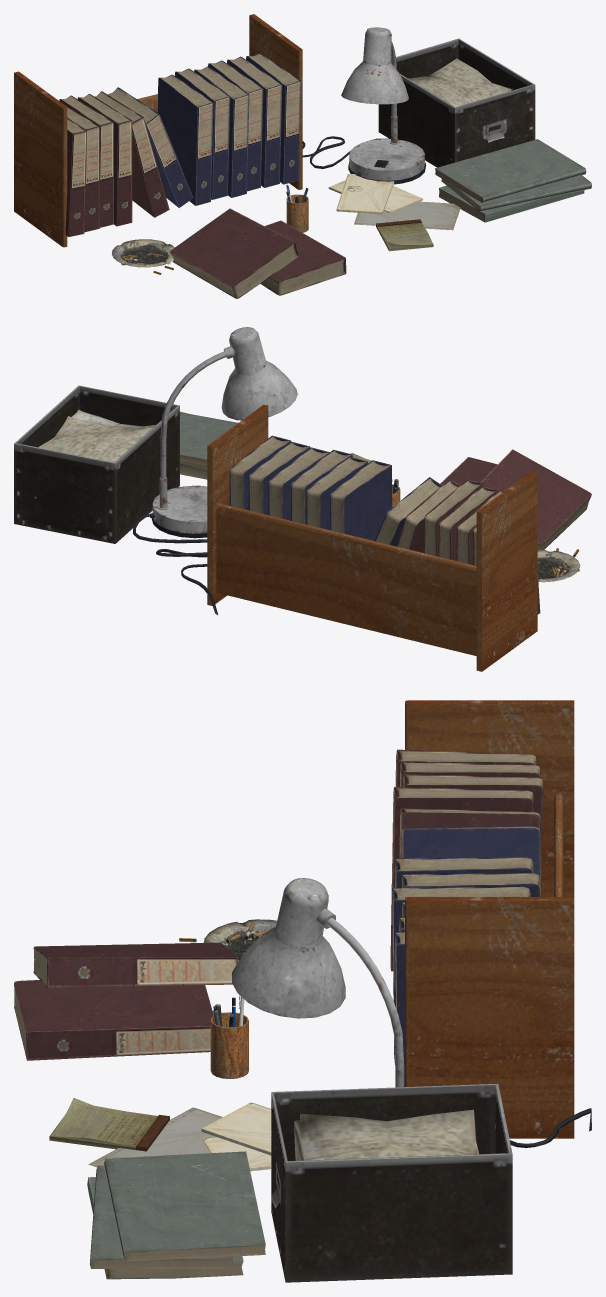
The model's file is sm39_127_officedeskset02a.fbx.
3 renders of one model, top to bottom at view 1: azimuth 30°, elevation 25°; view 2: azimuth 150°, elevation 25°; view 3: azimuth 270°, elevation 25°, orthographic. The views are drawn at different scales.
Visible parts, largest first — view 1: LOD_1_Group_2_Sub_1__sm36_007_PaperWork01A_A_Mat, LOD_1_Group_1_Sub_1__sm36_007_PaperWork01A_A_Mat, LOD_1_Group_0_Sub_3__sm36_022_Cardboard01A_B_Mat, LOD_1_Group_3_Sub_2__sm30_147_OfficeDesk01A_A_Mat, LOD_1_Group_0_Sub_1__sm35_012_DeskLight01A_A_Mat, LOD_1_Group_9_Sub_1__sm36_007_PaperWork01A_A_Mat, LOD_1_Group_3_Sub_1__sm36_007_PaperWork01A_A_Mat, LOD_1_Group_0_Sub_4__sm36_009_PaperBundle01A_A_Mat, LOD_1_Group_0_Sub_6__sm36_008_Envelope01A_A, LOD_1_Group_0_Sub_5__sm36_011_Document01A_A_Mat, LOD_1_Group_0_Sub_8__sm36_037_Ashtray01A_B_Mat, LOD_1_Group_0_Sub_9__sm36_013_Notepad01A_A_Mat (+1 smaller); view 2: LOD_1_Group_3_Sub_2__sm30_147_OfficeDesk01A_A_Mat, LOD_1_Group_0_Sub_3__sm36_022_Cardboard01A_B_Mat, LOD_1_Group_2_Sub_1__sm36_007_PaperWork01A_A_Mat, LOD_1_Group_0_Sub_1__sm35_012_DeskLight01A_A_Mat, LOD_1_Group_1_Sub_1__sm36_007_PaperWork01A_A_Mat, LOD_1_Group_0_Sub_4__sm36_009_PaperBundle01A_A_Mat, LOD_1_Group_3_Sub_1__sm36_007_PaperWork01A_A_Mat, LOD_1_Group_0_Sub_8__sm36_037_Ashtray01A_B_Mat, LOD_1_Group_9_Sub_1__sm36_007_PaperWork01A_A_Mat; view 3: LOD_1_Group_3_Sub_2__sm30_147_OfficeDesk01A_A_Mat, LOD_1_Group_0_Sub_3__sm36_022_Cardboard01A_B_Mat, LOD_1_Group_1_Sub_1__sm36_007_PaperWork01A_A_Mat, LOD_1_Group_2_Sub_1__sm36_007_PaperWork01A_A_Mat, LOD_1_Group_9_Sub_1__sm36_007_PaperWork01A_A_Mat, LOD_1_Group_0_Sub_1__sm35_012_DeskLight01A_A_Mat, LOD_1_Group_0_Sub_4__sm36_009_PaperBundle01A_A_Mat, LOD_1_Group_0_Sub_9__sm36_013_Notepad01A_A_Mat, LOD_1_Group_0_Sub_6__sm36_008_Envelope01A_A, LOD_1_Group_0_Sub_7__sm36_031_Penholder01A_E_Mat, LOD_1_Group_0_Sub_5__sm36_011_Document01A_A_Mat, LOD_1_Group_0_Sub_8__sm36_037_Ashtray01A_B_Mat (+1 smaller).
Part boxes in pixels (box(x1,y1,x2,y2)): LOD_1_Group_2_Sub_1__sm36_007_PaperWork01A_A_Mat: box(77, 56, 282, 226); LOD_1_Group_1_Sub_1__sm36_007_PaperWork01A_A_Mat: box(59, 95, 591, 298); LOD_1_Group_0_Sub_3__sm36_022_Cardboard01A_B_Mat: box(378, 38, 535, 167); LOD_1_Group_3_Sub_2__sm30_147_OfficeDesk01A_A_Mat: box(14, 14, 302, 247); LOD_1_Group_0_Sub_1__sm35_012_DeskLight01A_A_Mat: box(302, 27, 425, 184); LOD_1_Group_9_Sub_1__sm36_007_PaperWork01A_A_Mat: box(260, 220, 346, 295); LOD_1_Group_3_Sub_1__sm36_007_PaperWork01A_A_Mat: box(246, 53, 301, 184); LOD_1_Group_0_Sub_4__sm36_009_PaperBundle01A_A_Mat: box(408, 58, 512, 107); LOD_1_Group_0_Sub_6__sm36_008_Envelope01A_A: box(328, 173, 422, 214); LOD_1_Group_0_Sub_5__sm36_011_Document01A_A_Mat: box(354, 201, 460, 230); LOD_1_Group_0_Sub_8__sm36_037_Ashtray01A_B_Mat: box(112, 239, 174, 274); LOD_1_Group_0_Sub_9__sm36_013_Notepad01A_A_Mat: box(376, 219, 433, 251); LOD_1_Group_3_Sub_2__sm30_147_OfficeDesk01A_A_Mat: box(207, 405, 537, 671); LOD_1_Group_0_Sub_3__sm36_022_Cardboard01A_B_Mat: box(14, 385, 179, 543); LOD_1_Group_2_Sub_1__sm36_007_PaperWork01A_A_Mat: box(248, 441, 483, 556); LOD_1_Group_0_Sub_1__sm35_012_DeskLight01A_A_Mat: box(133, 327, 297, 614); LOD_1_Group_1_Sub_1__sm36_007_PaperWork01A_A_Mat: box(180, 411, 591, 614); LOD_1_Group_0_Sub_4__sm36_009_PaperBundle01A_A_Mat: box(38, 409, 155, 462); LOD_1_Group_3_Sub_1__sm36_007_PaperWork01A_A_Mat: box(229, 435, 291, 510); LOD_1_Group_0_Sub_8__sm36_037_Ashtray01A_B_Mat: box(537, 548, 580, 582); LOD_1_Group_9_Sub_1__sm36_007_PaperWork01A_A_Mat: box(440, 457, 497, 484); LOD_1_Group_3_Sub_2__sm30_147_OfficeDesk01A_A_Mat: box(405, 700, 574, 1138); LOD_1_Group_0_Sub_3__sm36_022_Cardboard01A_B_Mat: box(271, 1083, 512, 1282); LOD_1_Group_1_Sub_1__sm36_007_PaperWork01A_A_Mat: box(33, 749, 543, 1279); LOD_1_Group_2_Sub_1__sm36_007_PaperWork01A_A_Mat: box(390, 787, 540, 1064); LOD_1_Group_9_Sub_1__sm36_007_PaperWork01A_A_Mat: box(14, 980, 213, 1060); LOD_1_Group_0_Sub_1__sm35_012_DeskLight01A_A_Mat: box(232, 878, 591, 1147); LOD_1_Group_0_Sub_4__sm36_009_PaperBundle01A_A_Mat: box(294, 1109, 478, 1160); LOD_1_Group_0_Sub_9__sm36_013_Notepad01A_A_Mat: box(49, 1098, 169, 1151); LOD_1_Group_0_Sub_6__sm36_008_Envelope01A_A: box(201, 1102, 271, 1171); LOD_1_Group_0_Sub_7__sm36_031_Penholder01A_E_Mat: box(210, 995, 248, 1078); LOD_1_Group_0_Sub_5__sm36_011_Document01A_A_Mat: box(88, 1107, 222, 1167); LOD_1_Group_0_Sub_8__sm36_037_Ashtray01A_B_Mat: box(179, 919, 276, 961).
Size of the model in its own units: 1.5 by 0.5631 by 0.9924.
